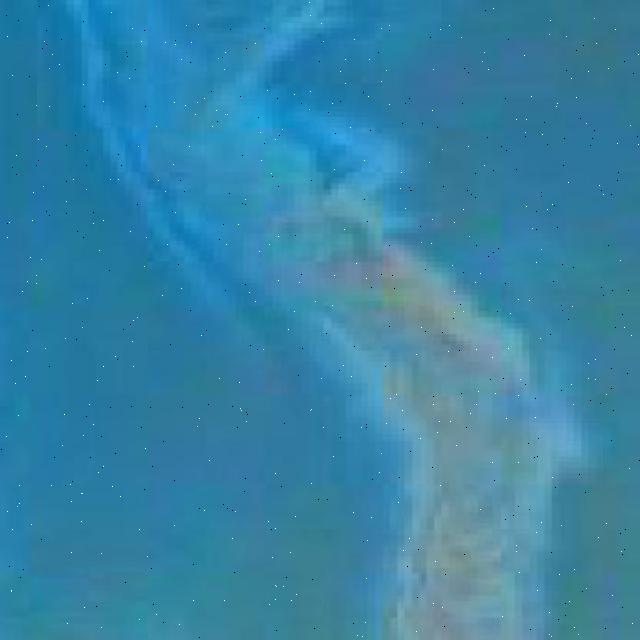oil spill: (79, 15, 581, 634)
